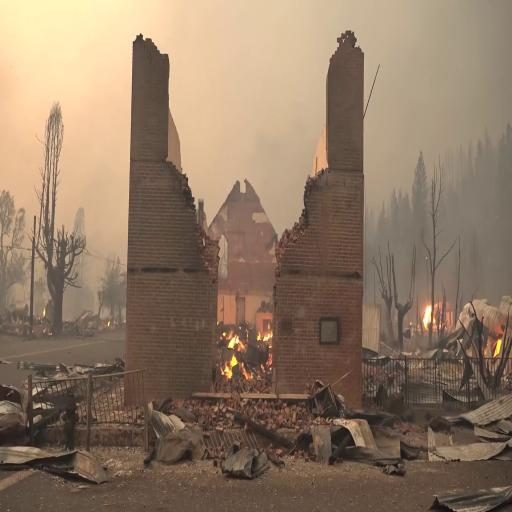smoke: (191, 13, 248, 115)
